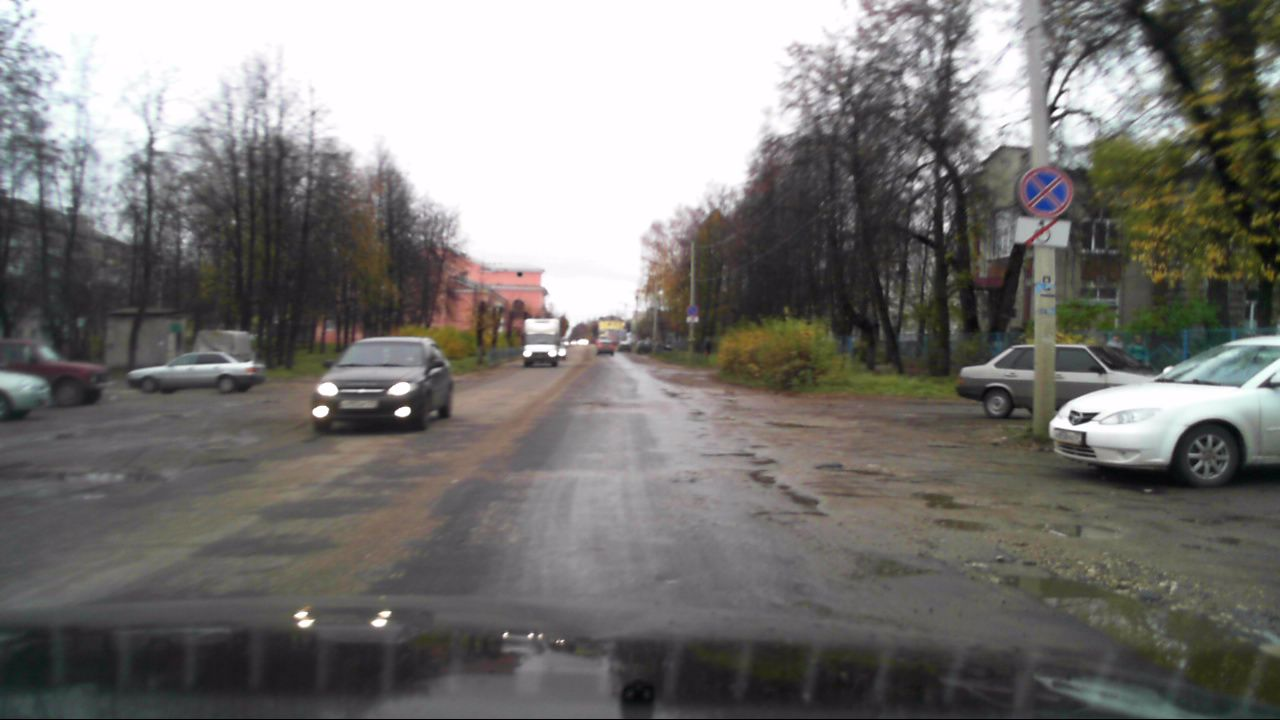No Parking: (1018, 166, 1072, 217)
